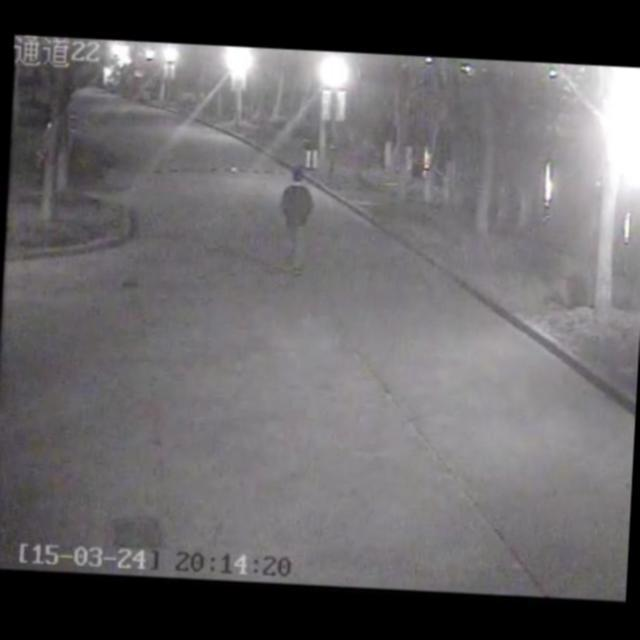person: (271, 160, 317, 280)
